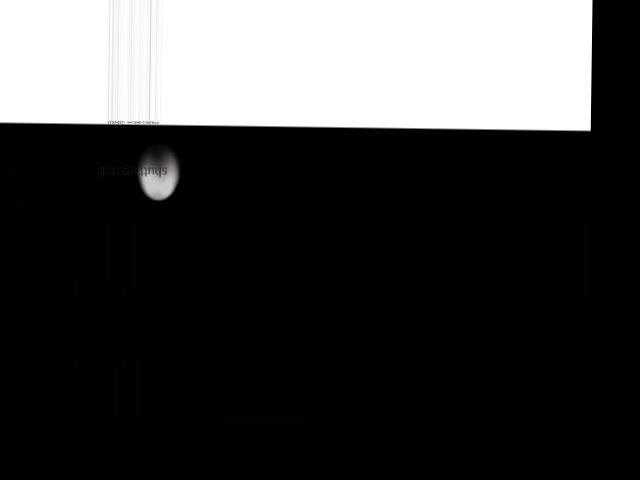egg: (137, 142, 180, 201)
